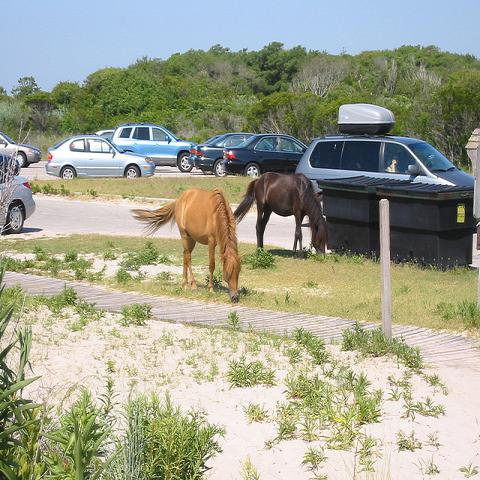car: (295, 135, 476, 201), (45, 135, 155, 179), (111, 123, 200, 173), (222, 134, 309, 177), (194, 134, 256, 176), (0, 163, 36, 232), (1, 132, 42, 168), (94, 129, 115, 140)
